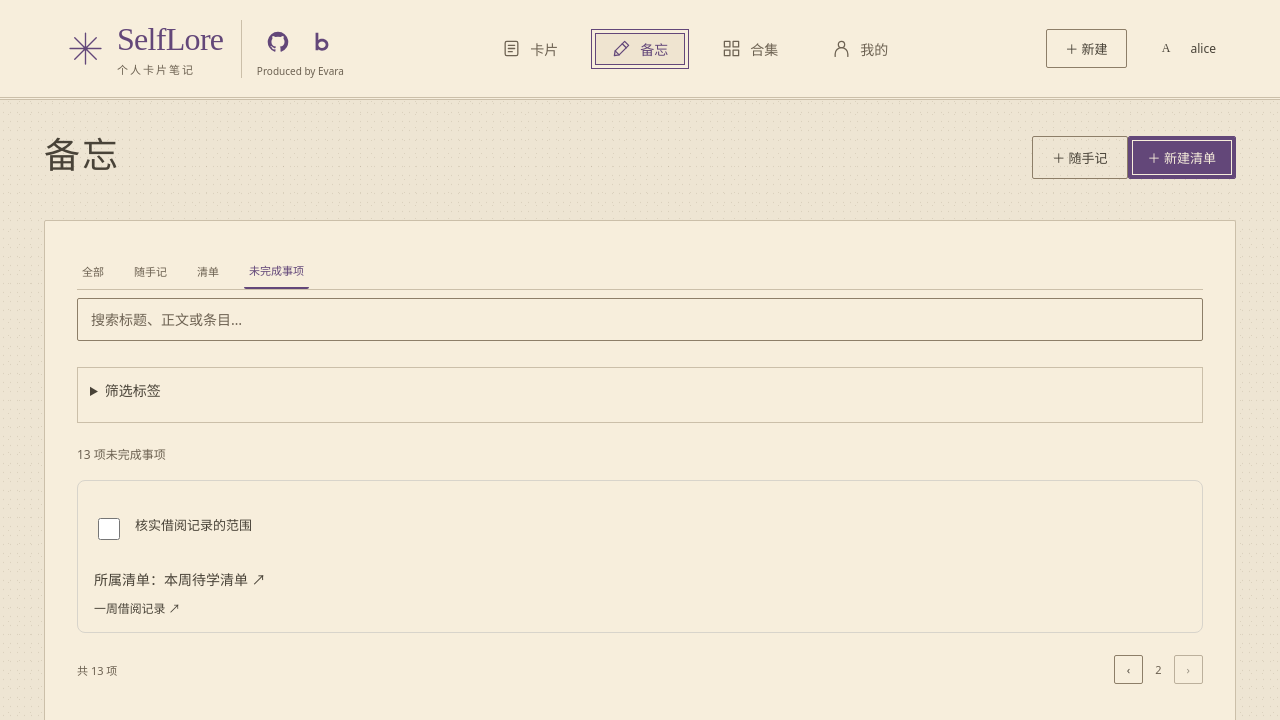
finishing the last item of a final page returns to a valid server page
The image size is (1280, 720).
Step 1. Click the checkbox → x=109, y=529, box 98,518 -> 120,540
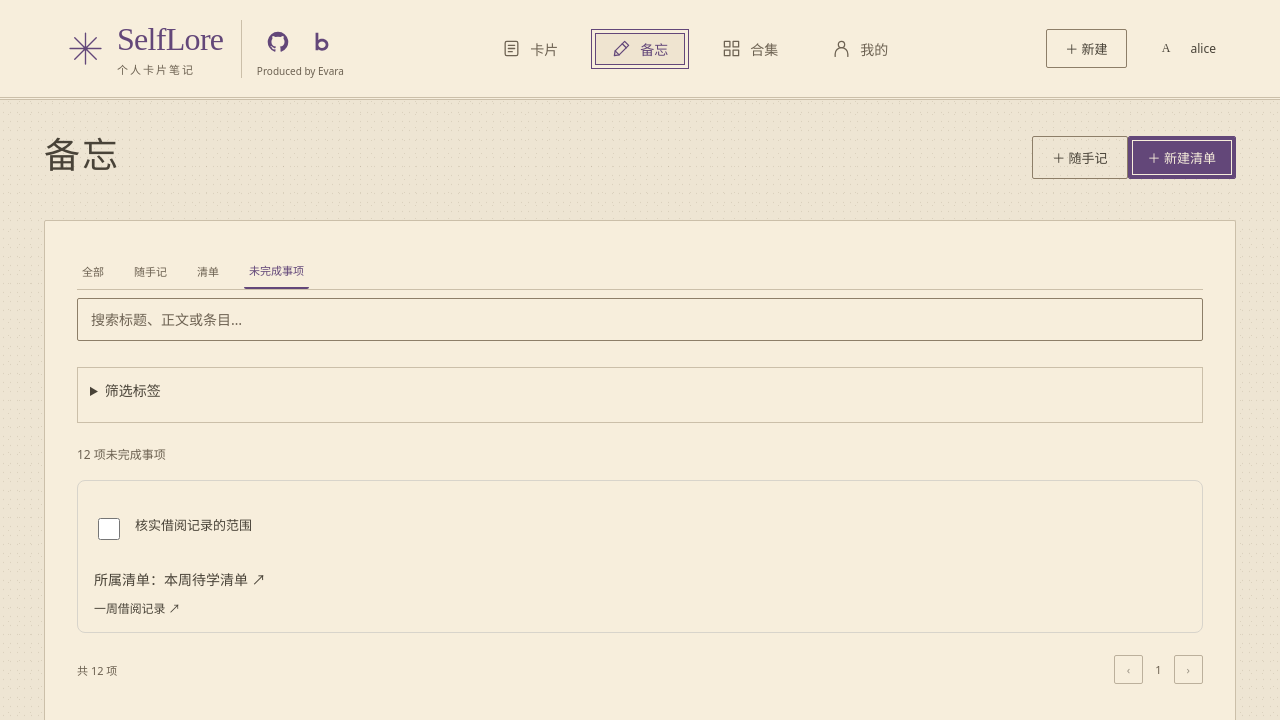
Check: the text "12 项未完成事项" is shown, box 77,446 -> 166,463
